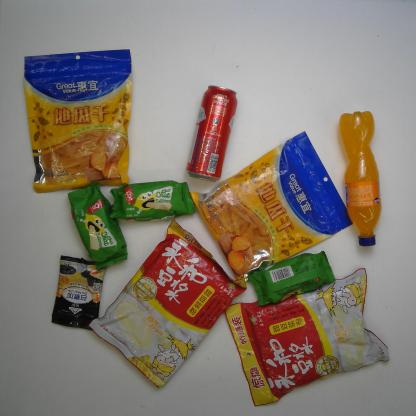Alcohol: (184, 82, 243, 186)
Dessert: (62, 180, 131, 270), (245, 251, 339, 311), (107, 177, 201, 226)
Dried Fruit: (189, 128, 356, 289), (15, 47, 139, 194)
Drink: (334, 111, 384, 249)
Instant Drink: (88, 216, 249, 392), (223, 267, 396, 408), (52, 254, 107, 332)
